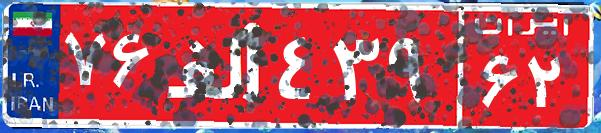2: (525, 38, 570, 115)
3: (330, 28, 385, 110)
4: (273, 28, 330, 110)
6: (475, 38, 525, 113), (110, 28, 158, 105)
7: (57, 26, 110, 107)
9: (385, 28, 445, 110)
الف: (158, 15, 273, 115)
